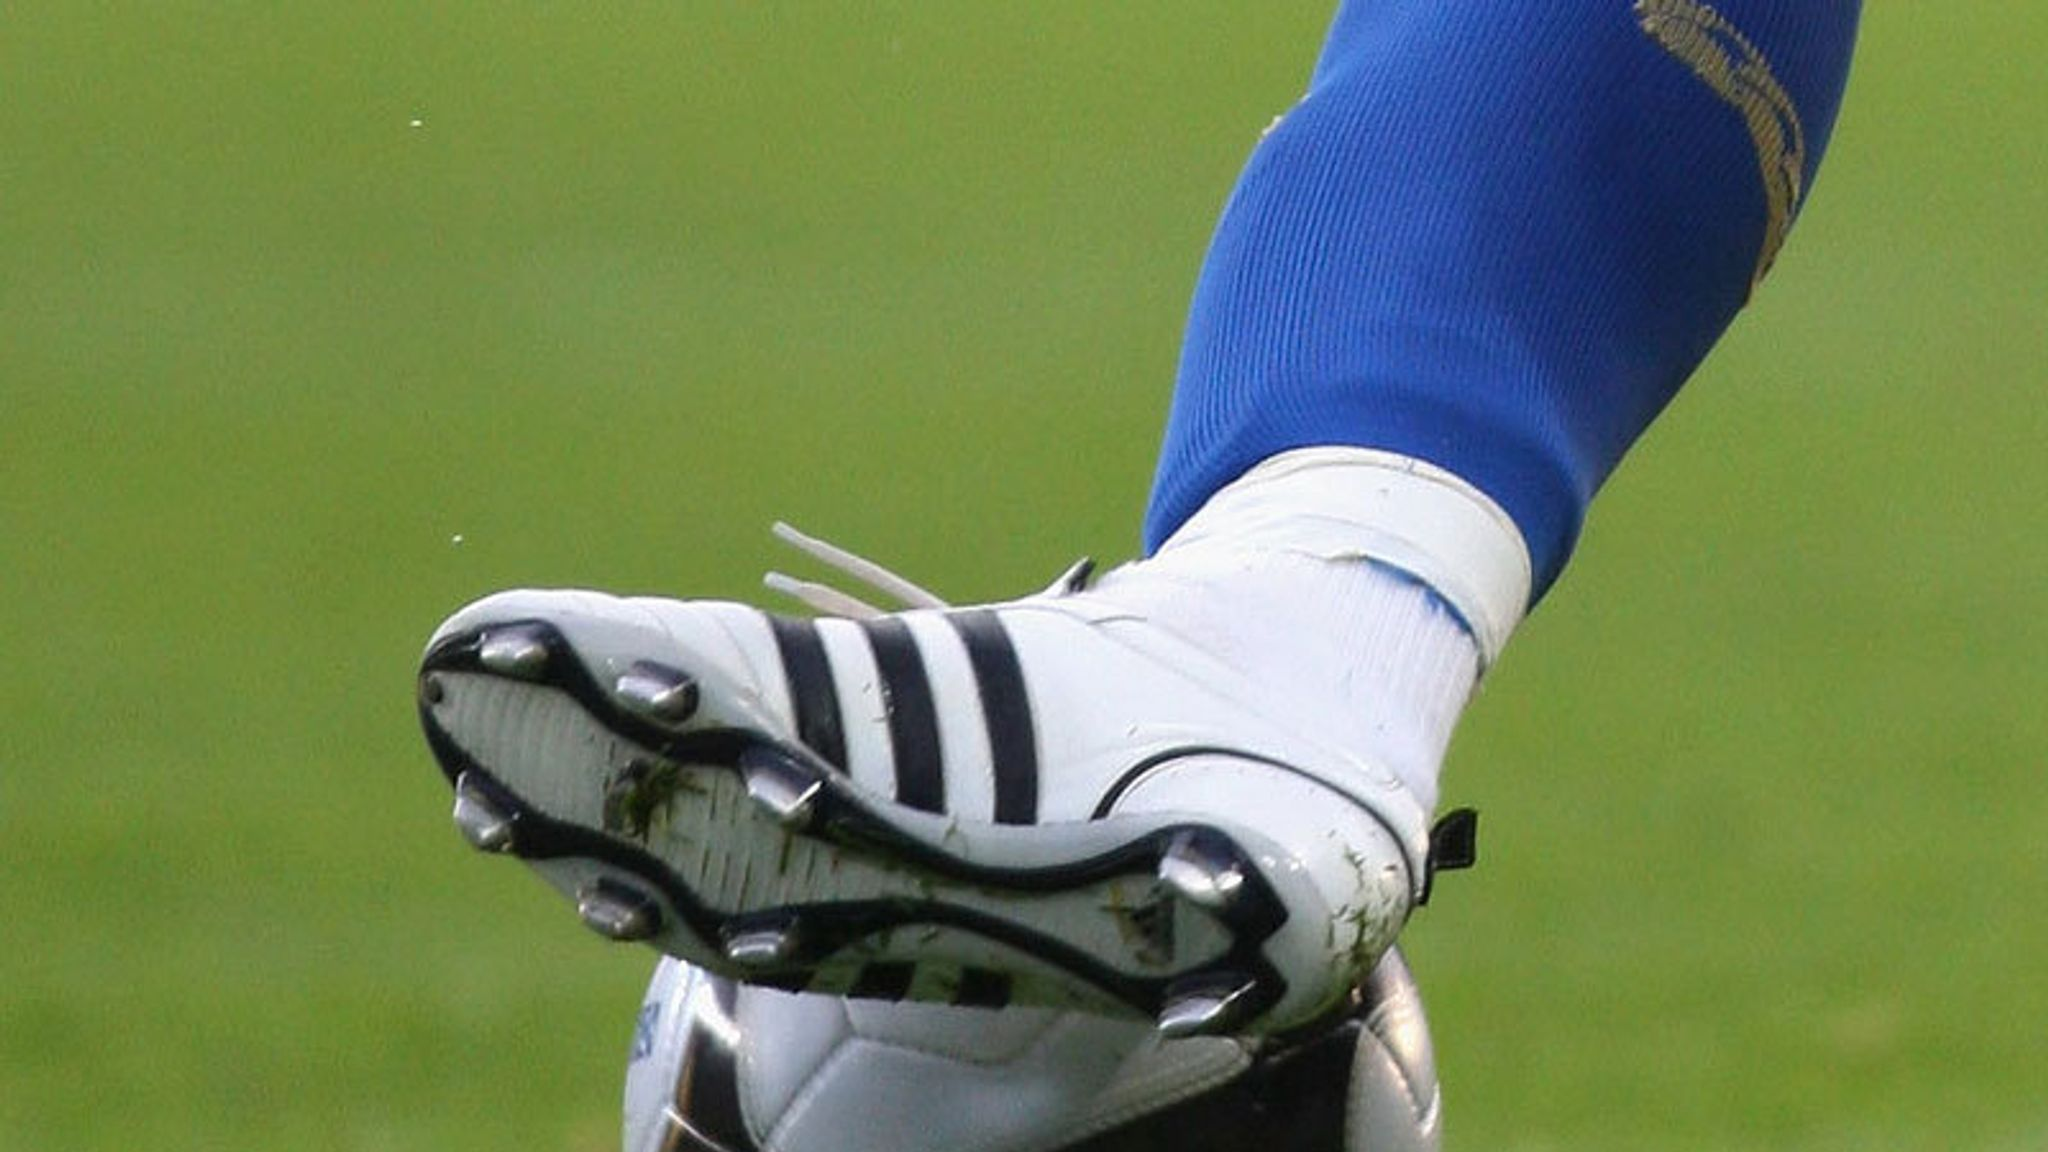football boots: (411, 587, 1438, 1037)
